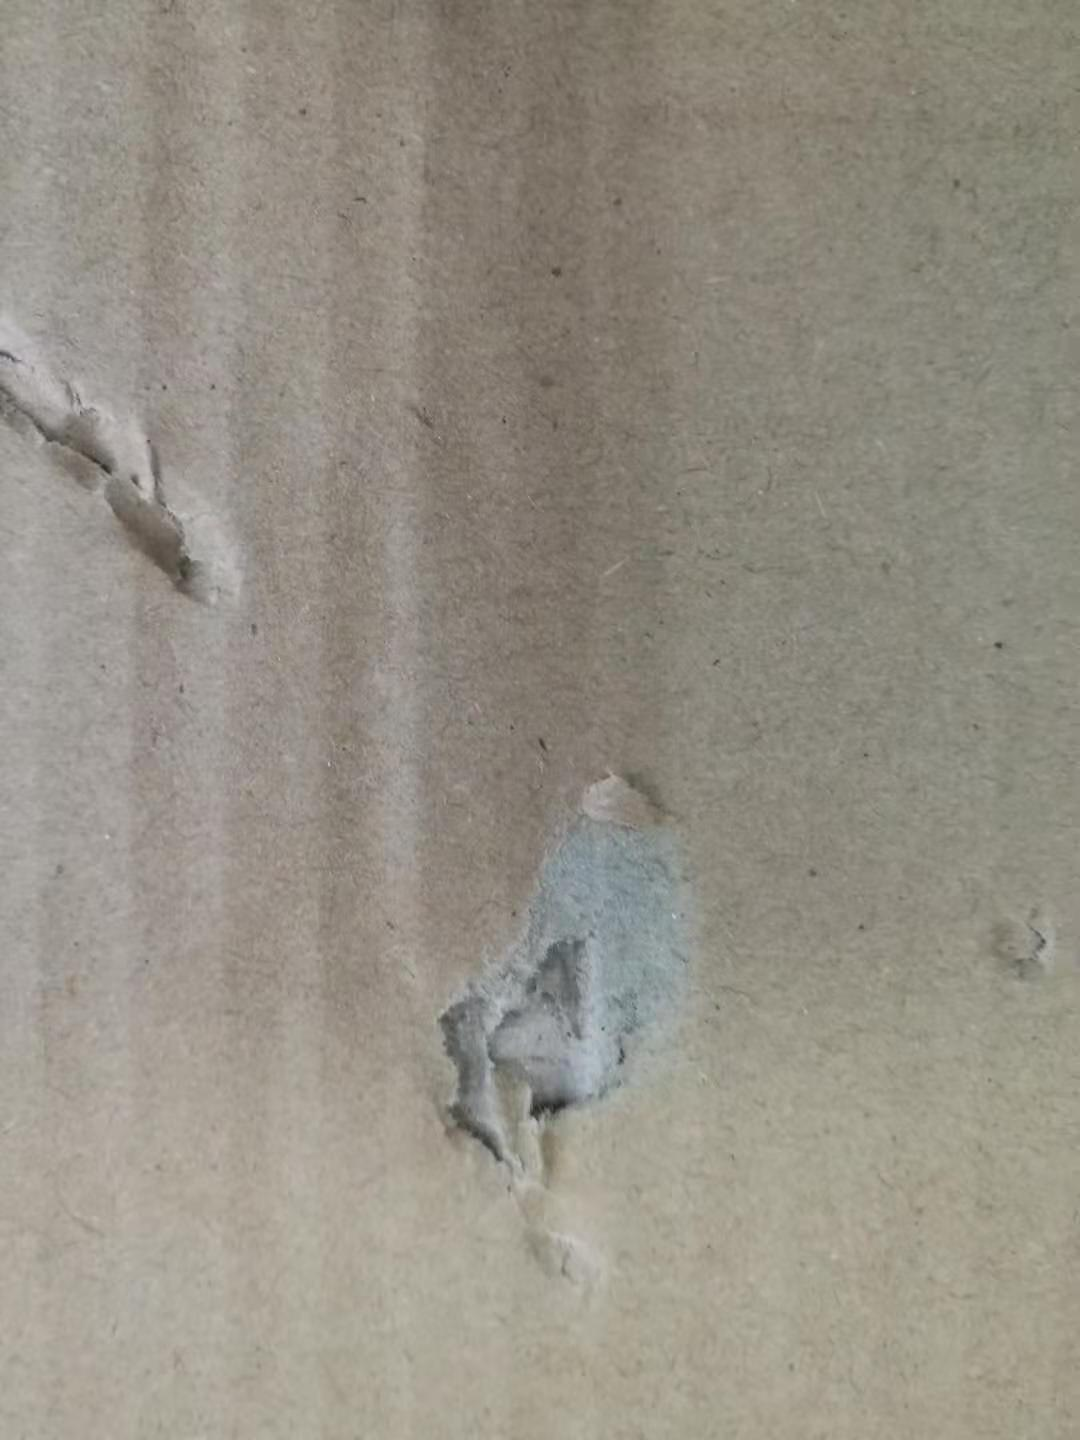defect: (365, 721, 759, 1310), (1, 283, 285, 679), (943, 864, 1074, 1008)
